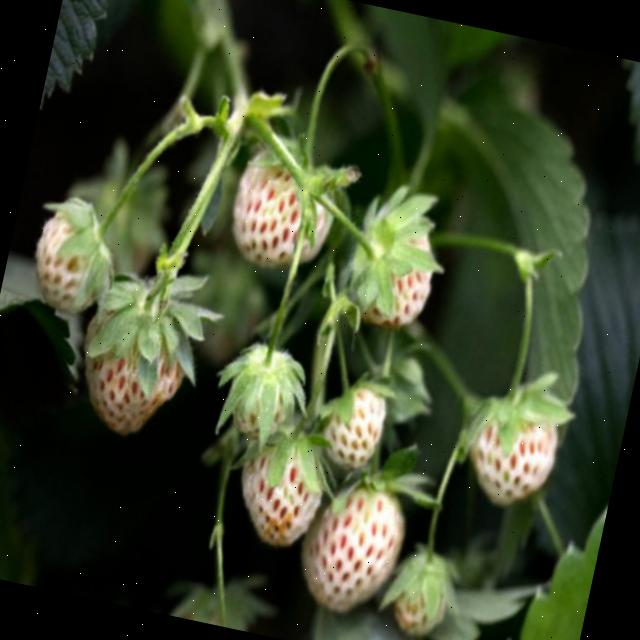strawberry: (66, 270, 200, 442), (293, 466, 412, 616), (222, 134, 342, 274), (457, 380, 565, 512), (228, 418, 333, 552), (343, 205, 441, 332), (23, 193, 116, 316), (222, 339, 298, 437), (317, 378, 388, 466), (389, 548, 454, 640)
